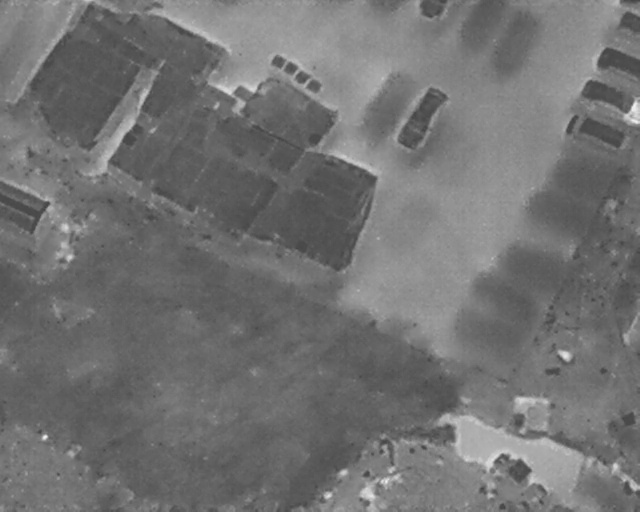Car: (391, 81, 452, 155), (560, 109, 636, 163), (581, 77, 639, 125), (594, 46, 640, 83), (417, 0, 453, 19)
